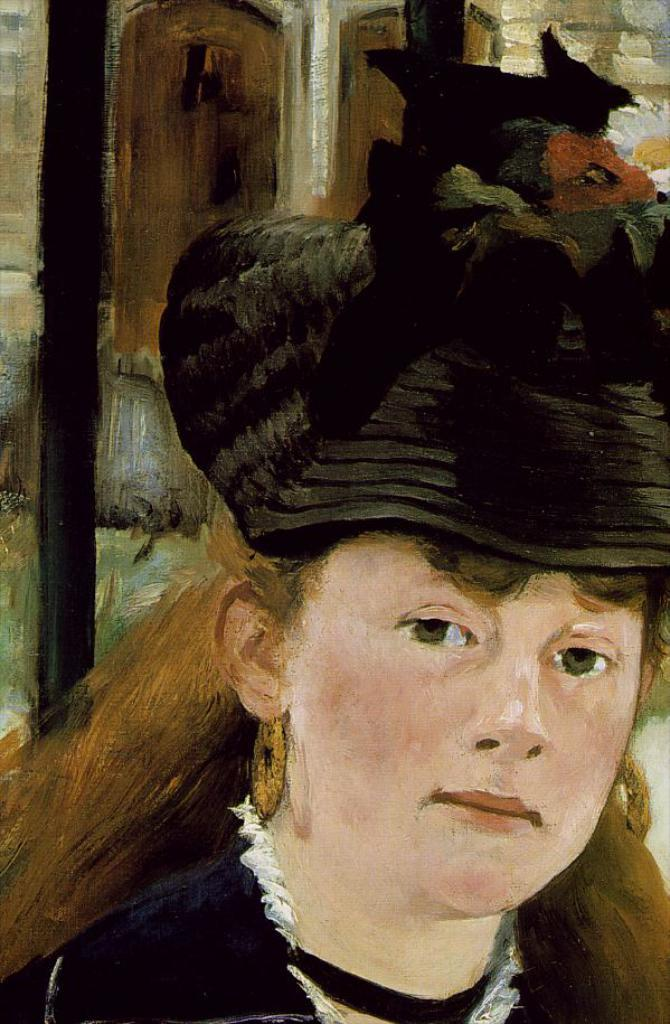Hat: (152, 27, 668, 557)
